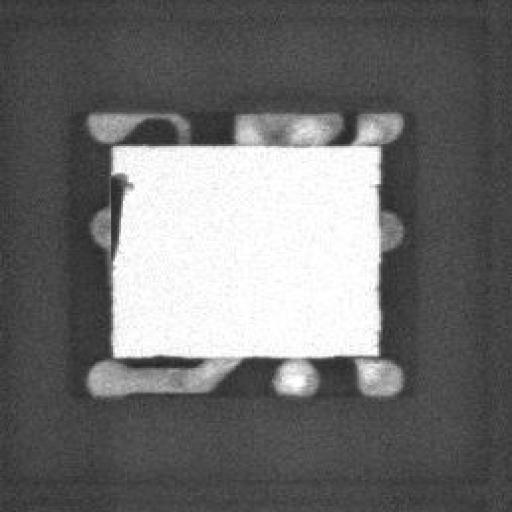DIE_BROKEN: (105, 167, 131, 258)
